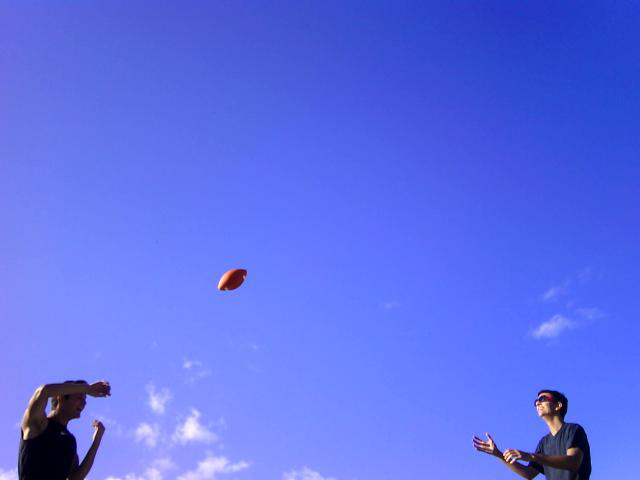football: (216, 266, 250, 294)
